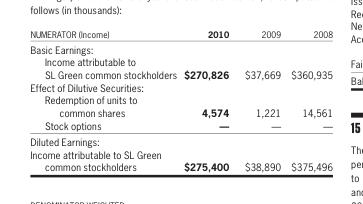table: (29, 28, 332, 172)
table column: (29, 28, 179, 172), (179, 28, 236, 172), (236, 28, 285, 172), (285, 28, 332, 172)
table column header: (29, 28, 332, 41)
table projected row header: (29, 41, 332, 55), (29, 133, 332, 147), (29, 80, 332, 93)
table row: (29, 55, 332, 80), (29, 93, 332, 118), (29, 147, 332, 172), (29, 118, 332, 133), (29, 41, 332, 55), (29, 133, 332, 147), (29, 28, 332, 41), (29, 80, 332, 93)
